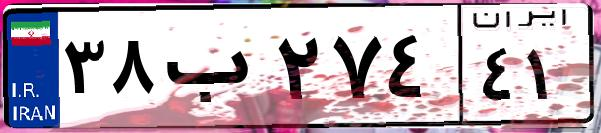1: (525, 38, 570, 115)
2: (270, 28, 330, 110)
3: (57, 26, 110, 100)
4: (385, 28, 445, 110), (475, 38, 525, 113)
7: (330, 28, 385, 110)
8: (110, 28, 158, 98)
ب: (158, 20, 270, 120)
